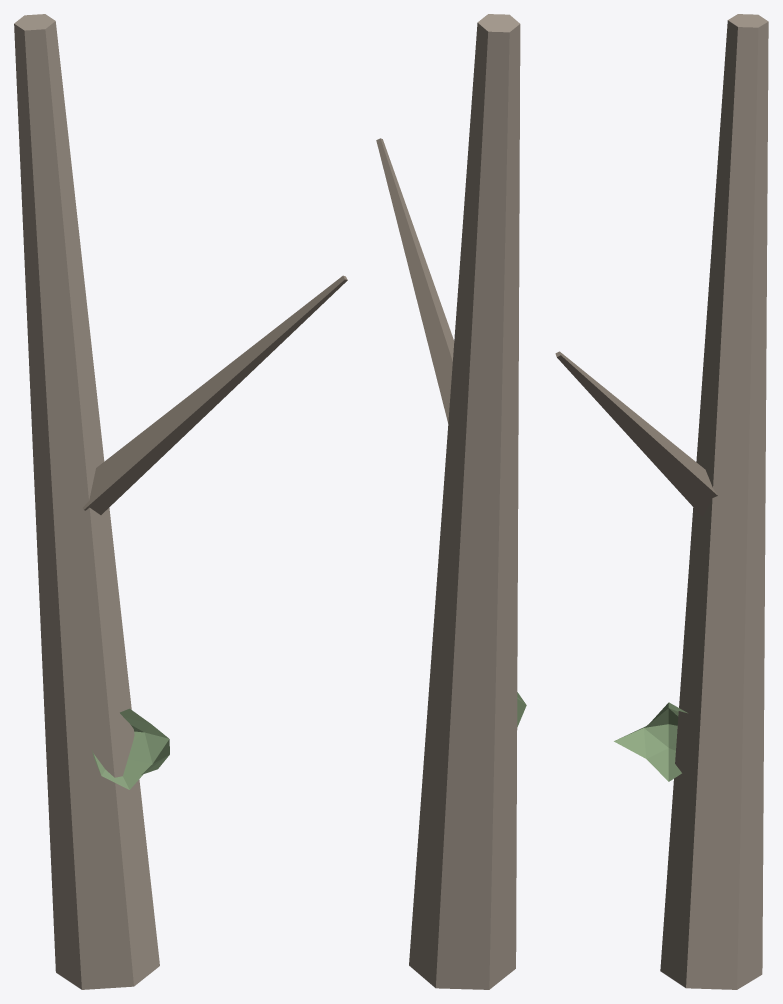
The model's file is snag_v00.glb.
3 renders of one model, left to right at view 1: azimuth 30°, elevation 25°; view 2: azimuth 150°, elevation 25°; view 3: azimuth 270°, elevation 25°, orthographic. The views are drawn at different scales.
Visible parts, largest first — view 1: lod0; view 2: lod0; view 3: lod0.
Part boxes in pixels (<box>): lod0: <box>14,14,347,989</box>; lod0: <box>376,14,526,989</box>; lod0: <box>555,14,768,989</box>.
Size of what is drawn, in the model's own units: 0.6127 by 2.41 by 0.5008.
